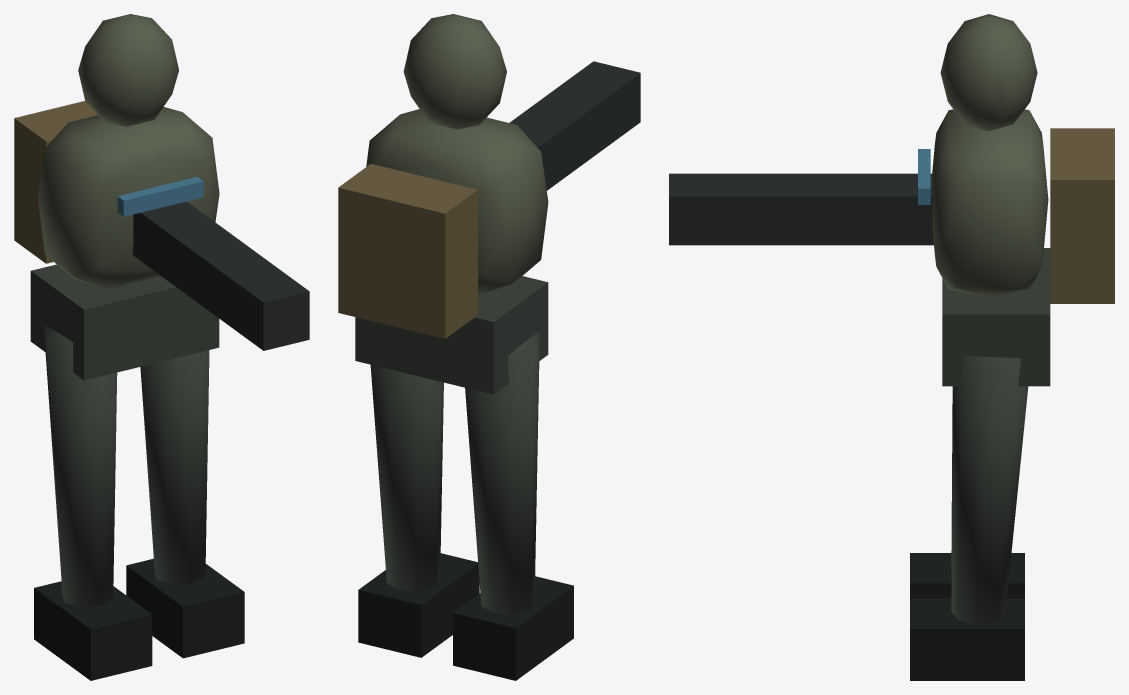
Rendered from Bastion_Gunner_LOD2.obj.
The picture shows the model from 3 angles, left to right: view 1: azimuth 30°, elevation 25°; view 2: azimuth 150°, elevation 25°; view 3: azimuth 270°, elevation 25°; orthographic projection. The views are drawn at different scales.
Parts seen in each view (by area): view 1: LOD2Torso, LOD2LeftLeg, LOD2Pelvis, LOD2Weapon, LOD2RightLeg, LOD2Head, LOD2LeftBoot, LOD2RightBoot, LOD2Pack, LOD2Accent; view 2: LOD2Pack, LOD2Torso, LOD2LeftLeg, LOD2RightLeg, LOD2Pelvis, LOD2Weapon, LOD2Head, LOD2LeftBoot, LOD2RightBoot; view 3: LOD2Weapon, LOD2Torso, LOD2RightLeg, LOD2Pack, LOD2Pelvis, LOD2Head, LOD2RightBoot, LOD2LeftBoot, LOD2Accent.
Part boxes in pixels (<box>): LOD2Torso: <box>37,107,219,288</box>; LOD2LeftLeg: <box>43,324,117,607</box>; LOD2Pelvis: <box>30,264,219,380</box>; LOD2Weapon: <box>132,201,309,350</box>; LOD2RightLeg: <box>140,350,209,584</box>; LOD2Head: <box>78,14,178,126</box>; LOD2LeftBoot: <box>34,581,152,680</box>; LOD2RightBoot: <box>126,558,244,658</box>; LOD2Pack: <box>14,101,97,263</box>; LOD2Accent: <box>117,176,203,216</box>; LOD2Pack: <box>338,164,477,338</box>; LOD2Torso: <box>366,109,548,294</box>; LOD2LeftLeg: <box>465,332,539,614</box>; LOD2RightLeg: <box>370,365,443,591</box>; LOD2Pelvis: <box>355,276,548,394</box>; LOD2Weapon: <box>509,61,640,190</box>; LOD2Head: <box>403,14,506,129</box>; LOD2LeftBoot: <box>453,576,573,680</box>; LOD2RightBoot: <box>358,553,479,657</box>; LOD2Weapon: <box>669,173,933,245</box>; LOD2Torso: <box>931,109,1048,297</box>; LOD2RightLeg: <box>951,355,1028,624</box>; LOD2Pack: <box>1050,128,1114,303</box>; LOD2Pelvis: <box>942,248,1050,386</box>; LOD2Head: <box>940,14,1037,131</box>; LOD2RightBoot: <box>910,598,1024,680</box>; LOD2LeftBoot: <box>910,553,1024,598</box>; LOD2Accent: <box>918,149,930,204</box>.
Size of the model in its own units: 0.5197 by 1.92 by 1.24.
1 material, 1 textured.
